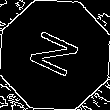N_SE: (24, 26, 86, 84)
